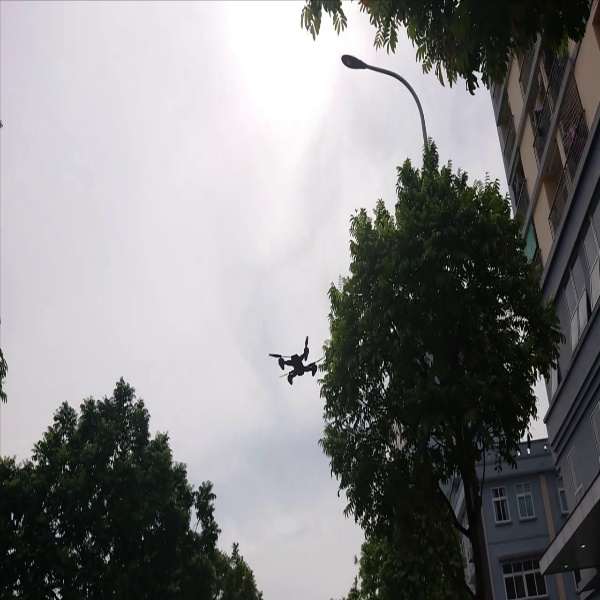drone: (261, 336, 328, 391)
